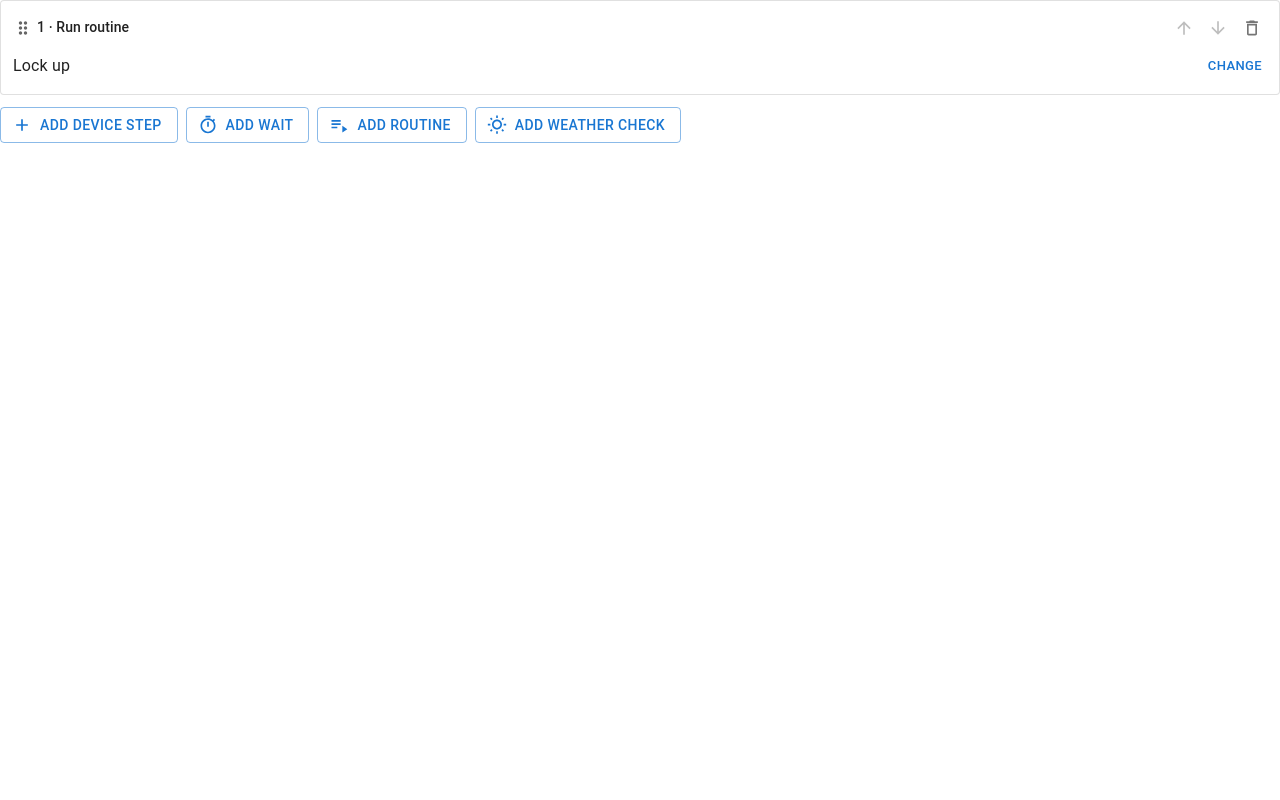
Test: StepList › changes the routine of a step
The width and height of the screenshot is (1280, 800).
Click the button "Change". click: x=1235, y=66
box: [1203,51,1267,82]
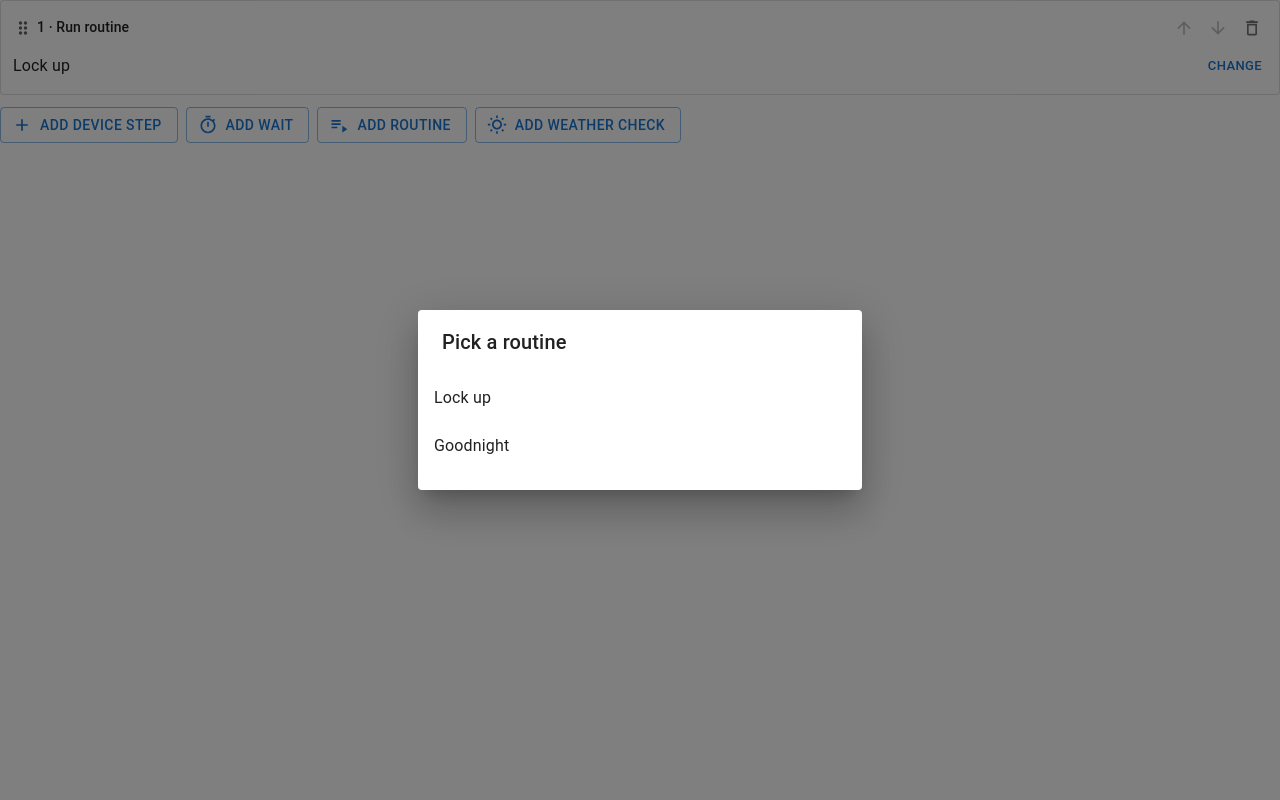
Click the button "Goodnight". click: x=472, y=446
box: [434,436,509,455]
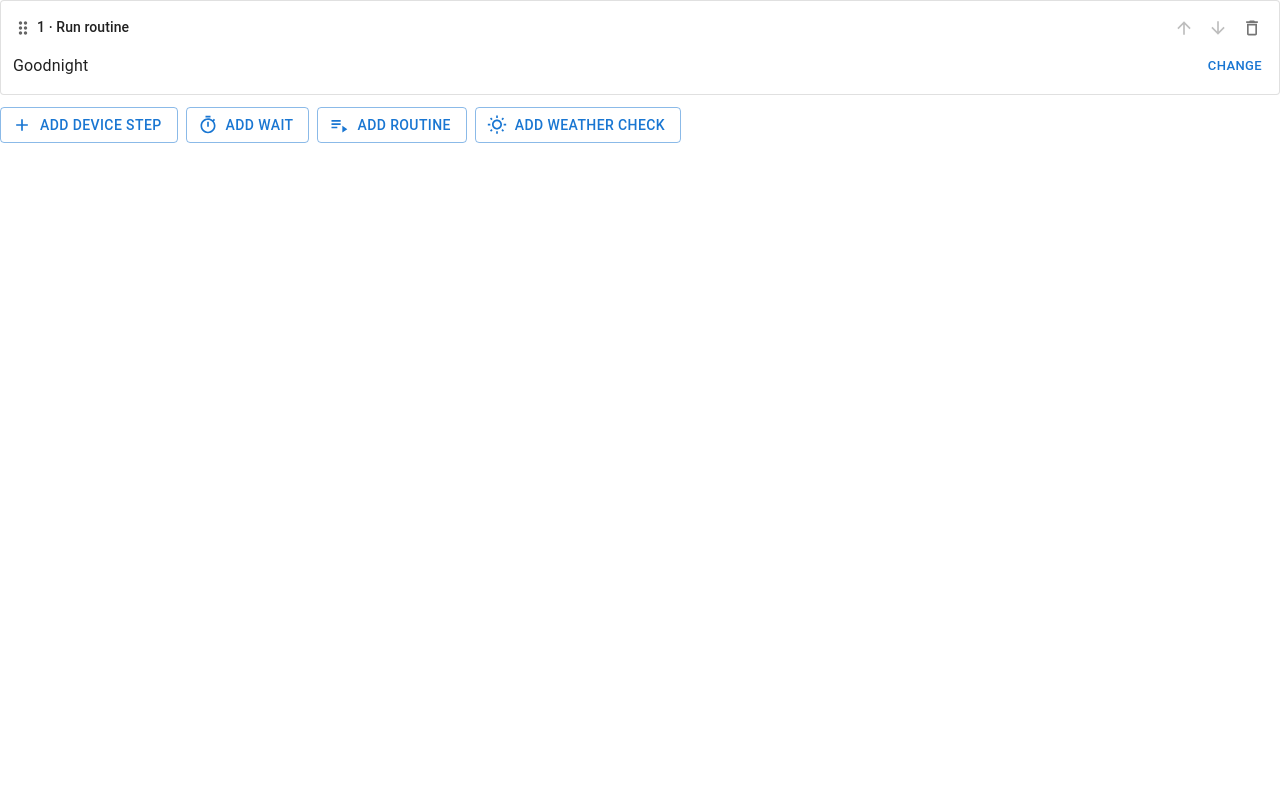
Check: the text "Goodnight" is shown, box [13,56,88,75]
